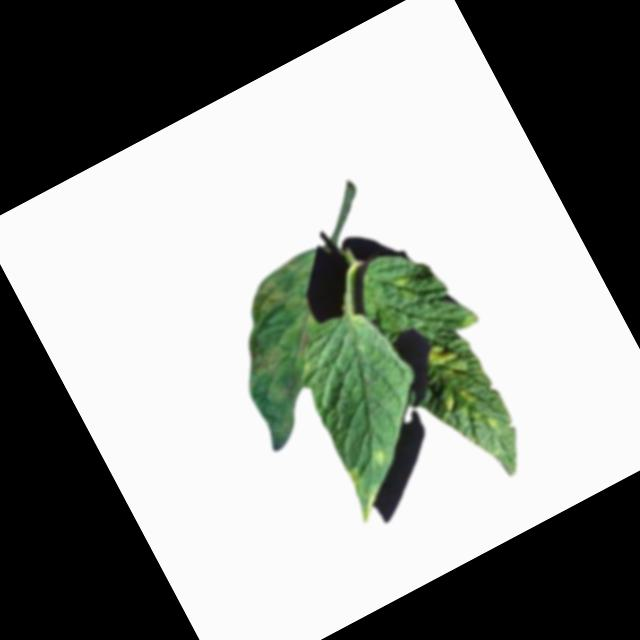Leaf_Mold: (332, 445, 411, 528), (226, 325, 289, 391), (241, 263, 307, 325), (421, 332, 464, 375)
